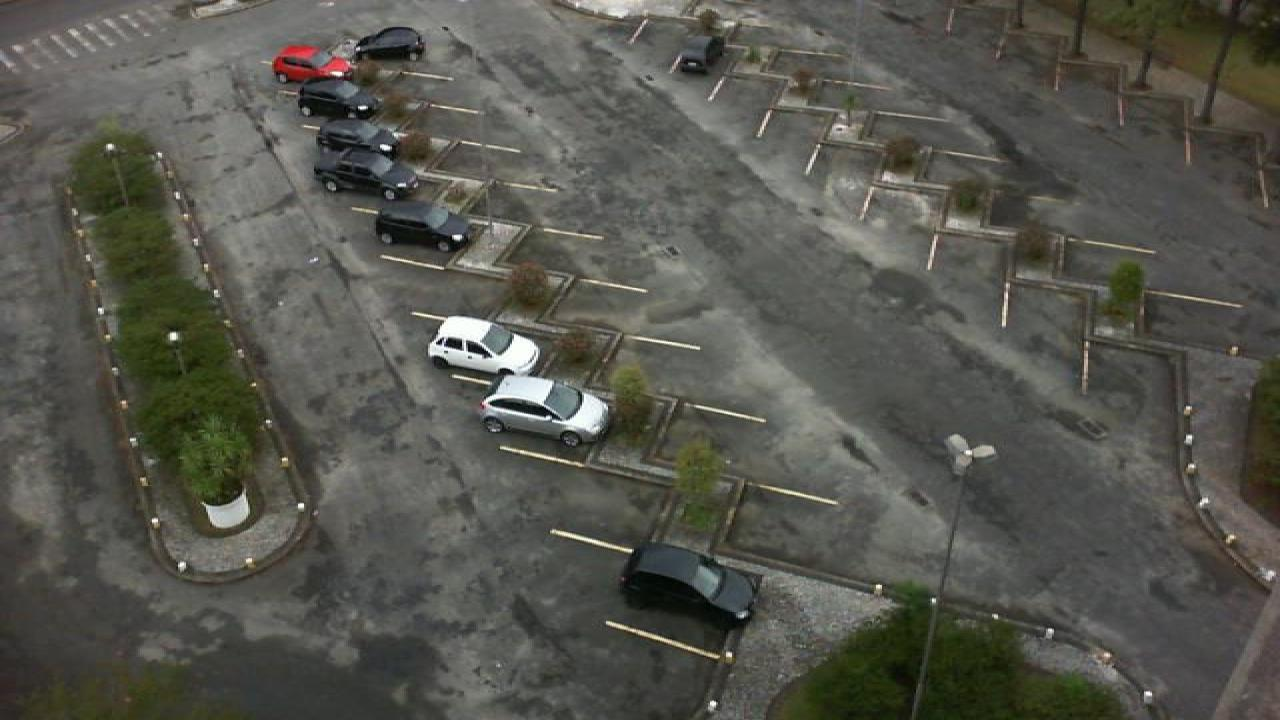Car: (620, 541, 756, 629), (476, 373, 612, 448), (426, 315, 540, 380), (312, 148, 420, 200), (372, 199, 472, 253), (294, 78, 384, 121), (314, 114, 400, 158), (270, 44, 354, 84), (352, 26, 426, 62), (676, 34, 726, 75)
